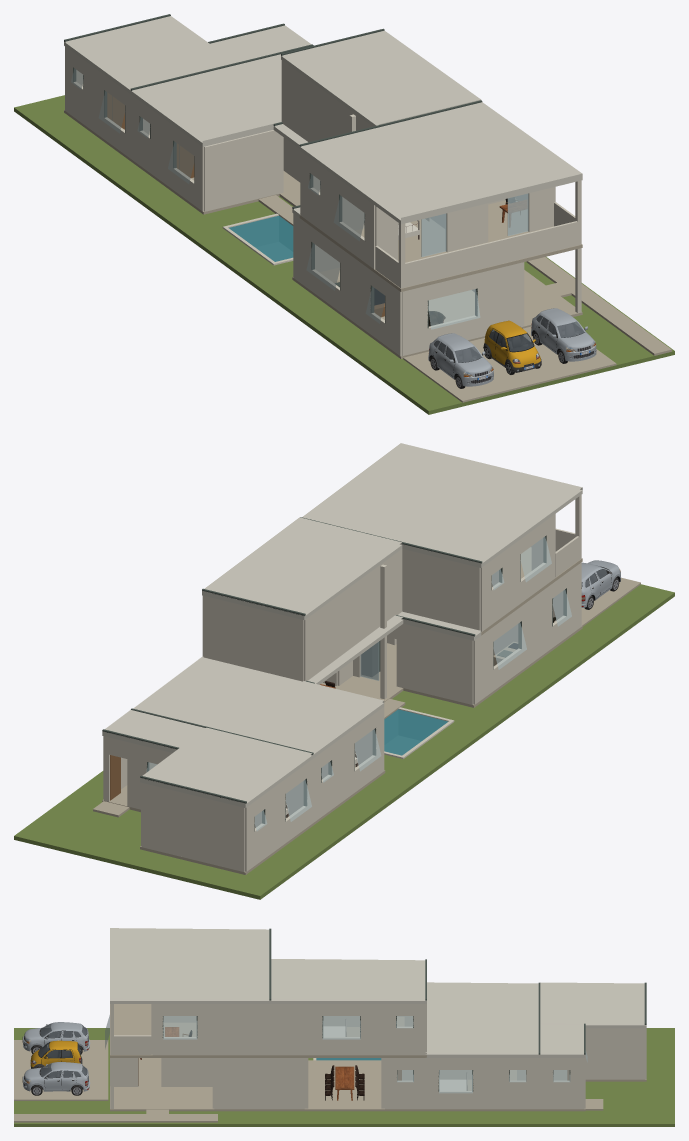
The model's file is CASA-MOBILIADA.glb.
The picture shows the model from 3 angles, top to bottom: view 1: azimuth 30°, elevation 25°; view 2: azimuth 150°, elevation 25°; view 3: azimuth 270°, elevation 25°; orthographic projection. The views are drawn at different scales.
Parts seen in each view (by area): view 1: Caimento Frente e varanda, Terreno natural, Caimento Retorno superior, Caimento Ala íntima, Terreno natural.001, Caimento Quarto 3, Parede terreo.057, Guarda varanda frontal, Piso laje terreo, Piso laje superior, Parede superior.042, Piso externo unificado (+42 smaller); view 2: Caimento Frente e varanda, Terreno natural.001, Caimento Ala íntima, Caimento Retorno superior, Terreno natural, Caimento Quarto 3, Parede terreo.091, Parede superior.043, Parede superior.042, Parede terreo.030, Parede superior.031, Piso laje terreo (+25 smaller); view 3: Caimento Frente e varanda, Terreno natural.001, Caimento Ala íntima, Piso laje terreo, Parede superior.024, Caimento Retorno superior, Parede terreo.037, Terreno natural, Caimento Quarto 3, Parede terreo.087, Piso laje superior, Piso externo unificado (+41 smaller).
Boxes of the visible parts, <box> form: Caimento Frente e varanda: <box>301,102,582,220</box>; Terreno natural: <box>241,257,674,414</box>; Caimento Retorno superior: <box>282,30,480,124</box>; Caimento Ala íntima: <box>132,54,281,142</box>; Terreno natural.001: <box>14,95,293,239</box>; Caimento Quarto 3: <box>65,16,236,88</box>; Parede terreo.057: <box>204,130,283,211</box>; Guarda varanda frontal: <box>405,221,577,287</box>; Piso laje terreo: <box>64,110,582,358</box>; Piso laje superior: <box>299,200,582,291</box>; Parede superior.042: <box>281,60,372,142</box>; Piso externo unificado: <box>258,195,671,355</box>; Caimento Frente e varanda: <box>302,443,582,563</box>; Terreno natural.001: <box>14,754,436,899</box>; Caimento Ala íntima: <box>133,656,384,755</box>; Caimento Retorno superior: <box>202,517,402,616</box>; Terreno natural: <box>392,584,674,733</box>; Caimento Quarto 3: <box>140,727,312,803</box>; Parede terreo.091: <box>141,783,244,871</box>; Parede superior.043: <box>203,596,303,681</box>; Parede superior.042: <box>303,549,402,681</box>; Parede terreo.030: <box>396,623,473,704</box>; Parede superior.031: <box>402,549,480,630</box>; Piso laje terreo: <box>102,621,582,874</box>; Caimento Frente e varanda: <box>110,928,269,999</box>; Terreno natural.001: <box>394,1028,674,1126</box>; Caimento Ala íntima: <box>425,982,538,1053</box>; Piso laje terreo: <box>110,1058,646,1111</box>; Parede superior.024: <box>197,1004,322,1055</box>; Caimento Retorno superior: <box>271,959,425,999</box>; Parede terreo.037: <box>214,1058,304,1109</box>; Terreno natural: <box>14,1028,313,1126</box>; Caimento Quarto 3: <box>540,982,644,1024</box>; Parede terreo.087: <box>585,1028,645,1079</box>; Piso laje superior: <box>110,1004,426,1057</box>; Piso externo unificado: <box>14,1060,603,1122</box>.
Bounding box in the file's own units: 12 × 7.88 × 35.
Materials: 61 (21 with a texture image).
